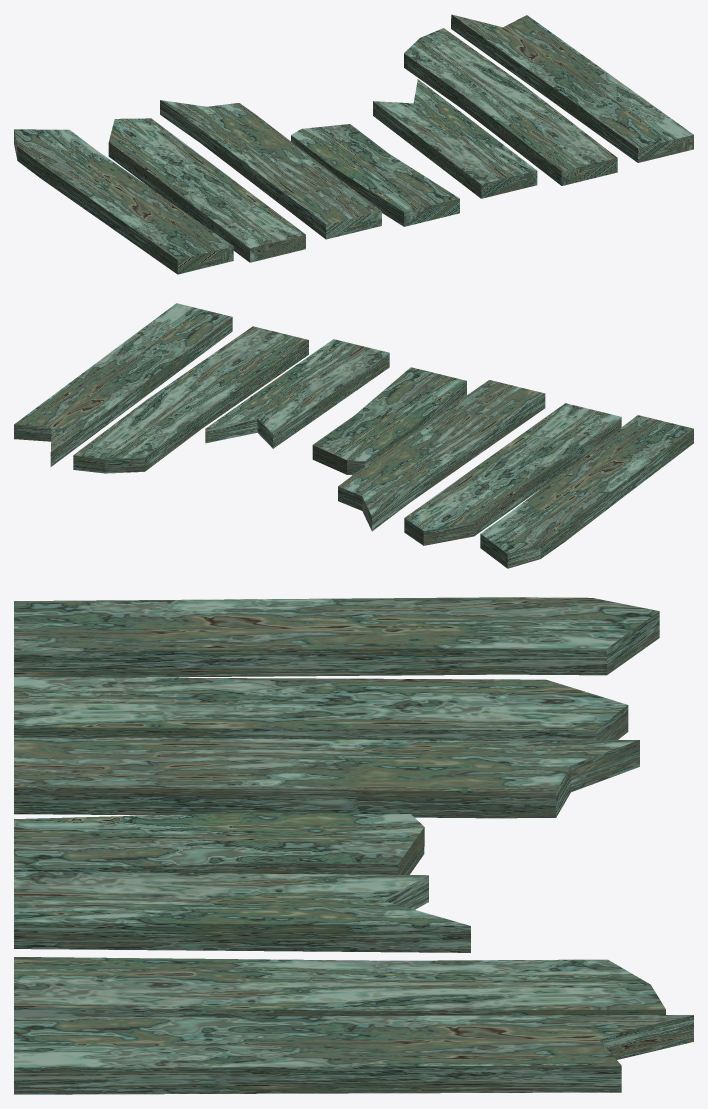
Rendered from BrokenFloor_Piece1.FBX.
The picture shows the model from 3 angles, top to bottom: view 1: azimuth 30°, elevation 25°; view 2: azimuth 150°, elevation 25°; view 3: azimuth 270°, elevation 25°; orthographic projection. The views are drawn at different scales.
Parts seen in each view (by area): view 1: Object040; view 2: Object040; view 3: Object040.
Boxes of the visible parts, left/top/right/bottom form: Object040: left=14, top=14, right=693, bottom=274; Object040: left=14, top=303, right=693, bottom=568; Object040: left=14, top=597, right=693, bottom=1094.
Size of the model in its own units: 197 by 8.6 by 121.
